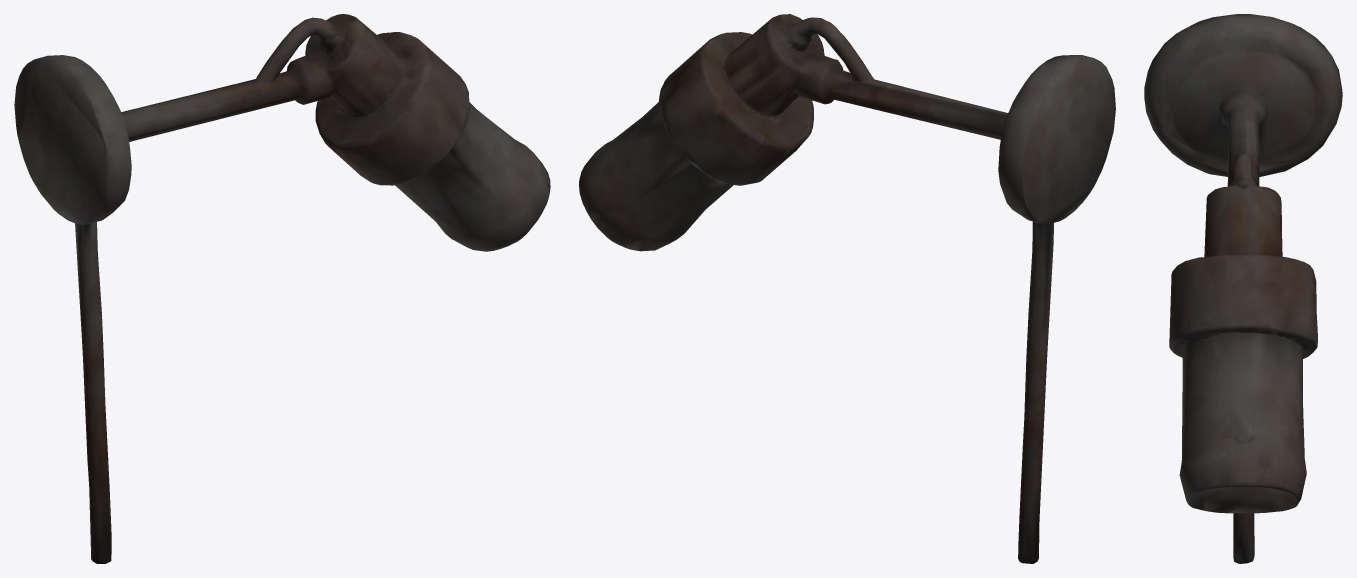
The model's file is chipped-iron-wall-torch-v001.glb.
3 views of the same model, side by side, from view 1: azimuth 30°, elevation 25°; view 2: azimuth 150°, elevation 25°; view 3: azimuth 270°, elevation 25° (orthographic). The views are drawn at different scales.
Parts seen in each view (by area): view 1: chipped-iron-wall-torch; view 2: chipped-iron-wall-torch; view 3: chipped-iron-wall-torch.
Part boxes in pixels (box(x1,y1,x2,y2)): chipped-iron-wall-torch: box(14, 14, 550, 563); chipped-iron-wall-torch: box(579, 14, 1115, 563); chipped-iron-wall-torch: box(1144, 14, 1342, 563).
Size of the model in its own units: 0.7261 by 0.729 by 0.2488.
1 material, 1 textured.
